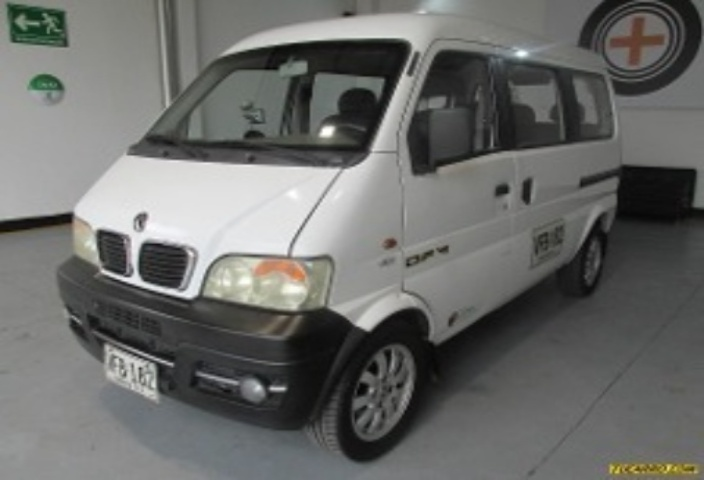van: (64, 10, 629, 457)
